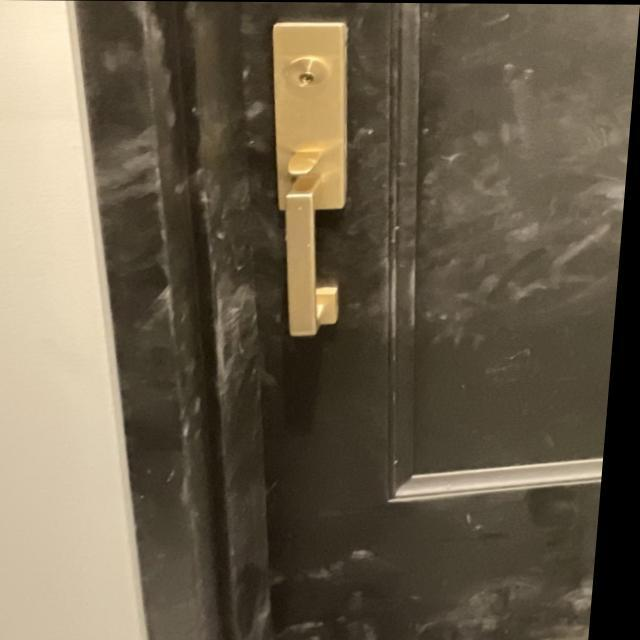door_handle: (256, 176, 369, 352)
